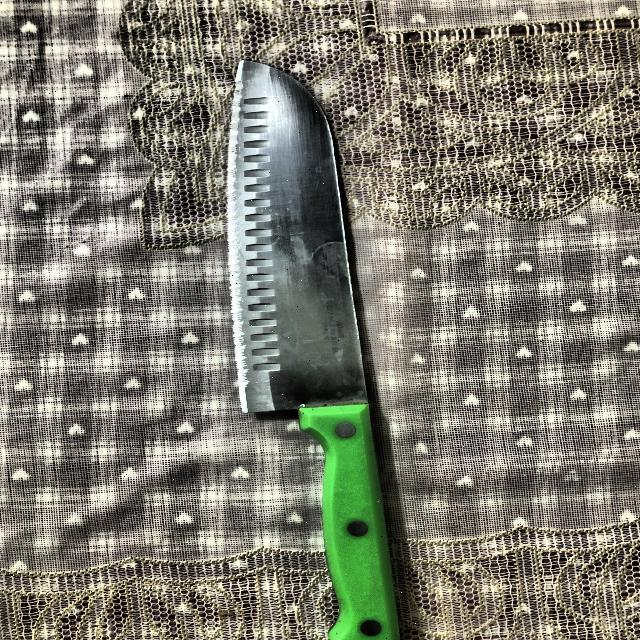knife: (227, 62, 401, 640)
